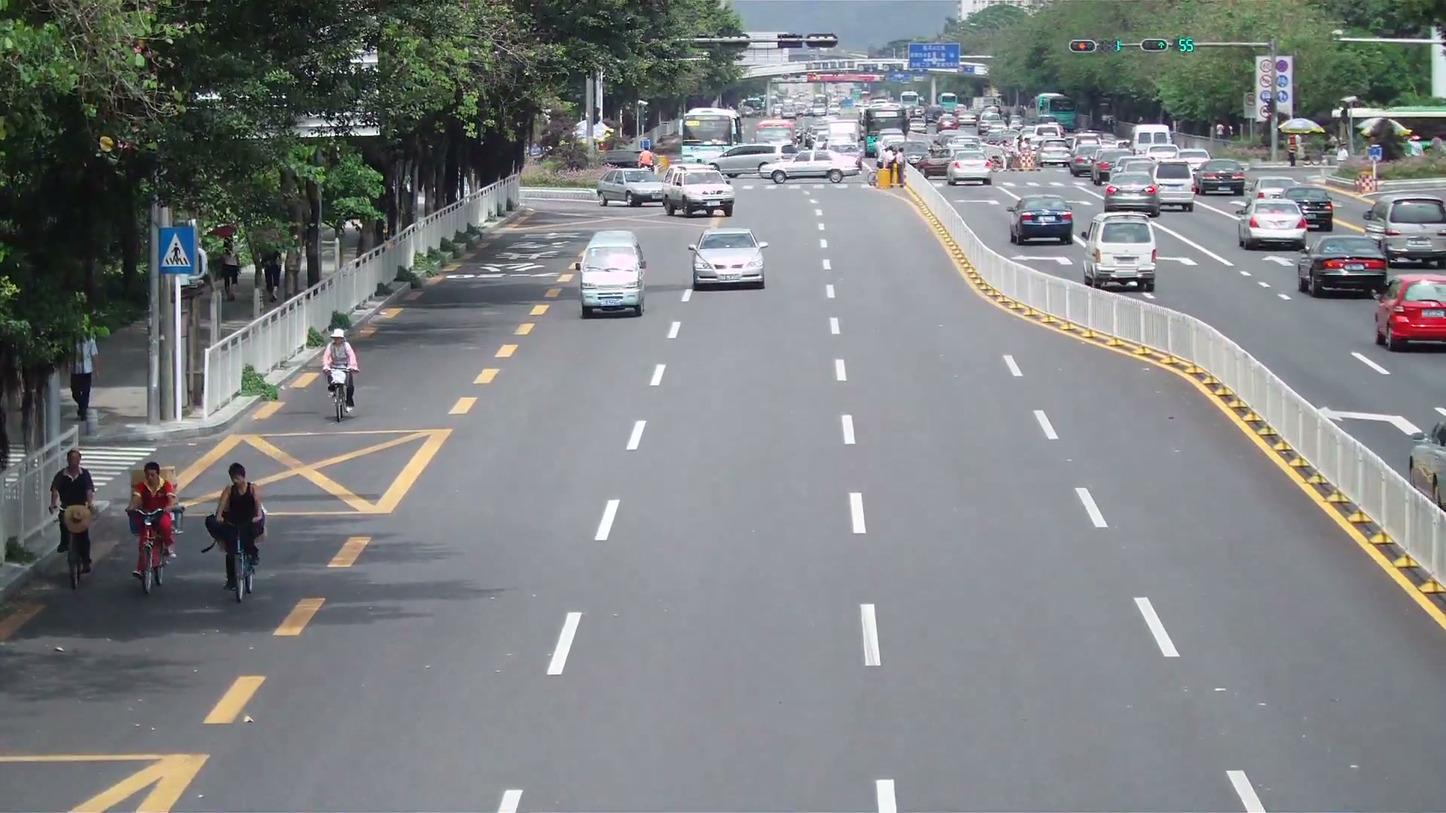bus: (682, 106, 739, 160)
car: (1363, 192, 1445, 268), (1080, 215, 1159, 293), (1298, 233, 1391, 298), (578, 229, 646, 317), (1373, 276, 1446, 353), (689, 225, 766, 290), (661, 163, 732, 217), (1237, 199, 1309, 251), (1009, 194, 1074, 246), (1104, 160, 1160, 217), (594, 167, 666, 207), (1282, 186, 1334, 230), (946, 144, 992, 184), (621, 168, 666, 207)
motorcycle: (206, 511, 264, 601), (131, 510, 177, 594), (321, 362, 359, 422)
pedestrian: (205, 462, 267, 591), (49, 448, 96, 583), (127, 458, 178, 582), (321, 328, 360, 399), (69, 334, 98, 426)
